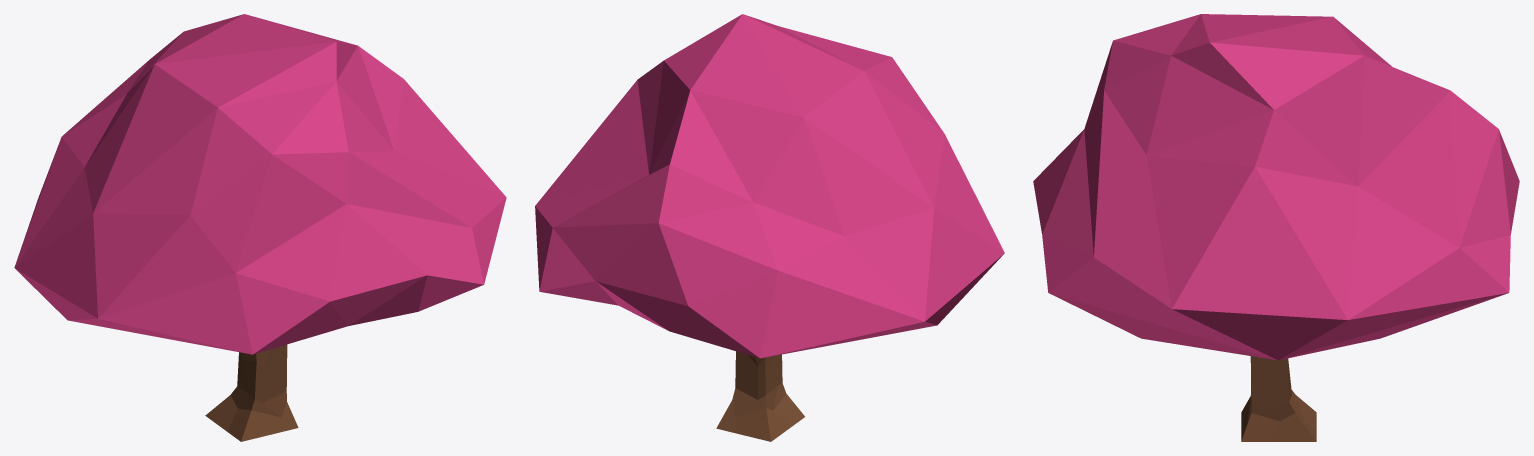
Rendered from Tree_24_Pink.fbx.
3 renders of one model, left to right at view 1: azimuth 30°, elevation 25°; view 2: azimuth 150°, elevation 25°; view 3: azimuth 270°, elevation 25°, orthographic. The views are drawn at different scales.
Parts seen in each view (by area): view 1: Tree_24_Pink_Part_1, Tree_24_Pink_Part_2; view 2: Tree_24_Pink_Part_1, Tree_24_Pink_Part_2; view 3: Tree_24_Pink_Part_1, Tree_24_Pink_Part_2.
Boxes of the visible parts, left/top/right/bottom form: Tree_24_Pink_Part_1: left=14, top=14, right=506, bottom=354; Tree_24_Pink_Part_2: left=205, top=344, right=298, bottom=441; Tree_24_Pink_Part_1: left=535, top=14, right=1004, bottom=358; Tree_24_Pink_Part_2: left=716, top=351, right=804, bottom=441; Tree_24_Pink_Part_1: left=1033, top=14, right=1519, bottom=360; Tree_24_Pink_Part_2: left=1241, top=356, right=1316, bottom=441.
Size of the model in its own units: 806 by 738 by 791.
